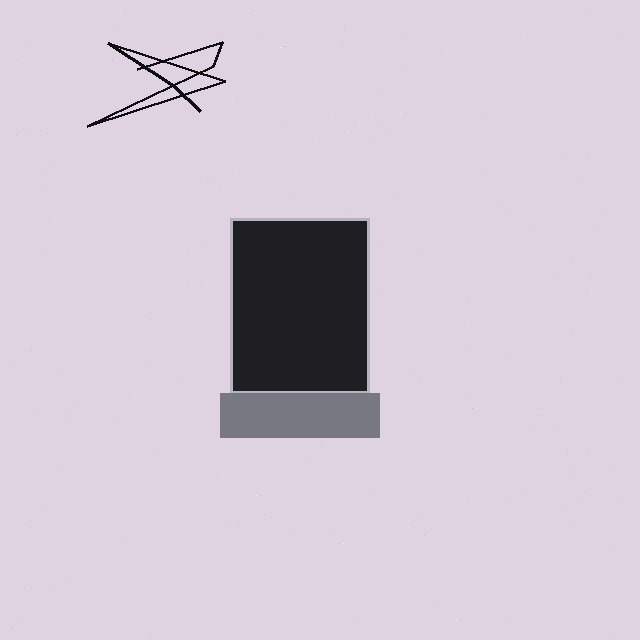crocodile_crack: (72, 26, 247, 129)
laptop: (230, 218, 369, 437)
